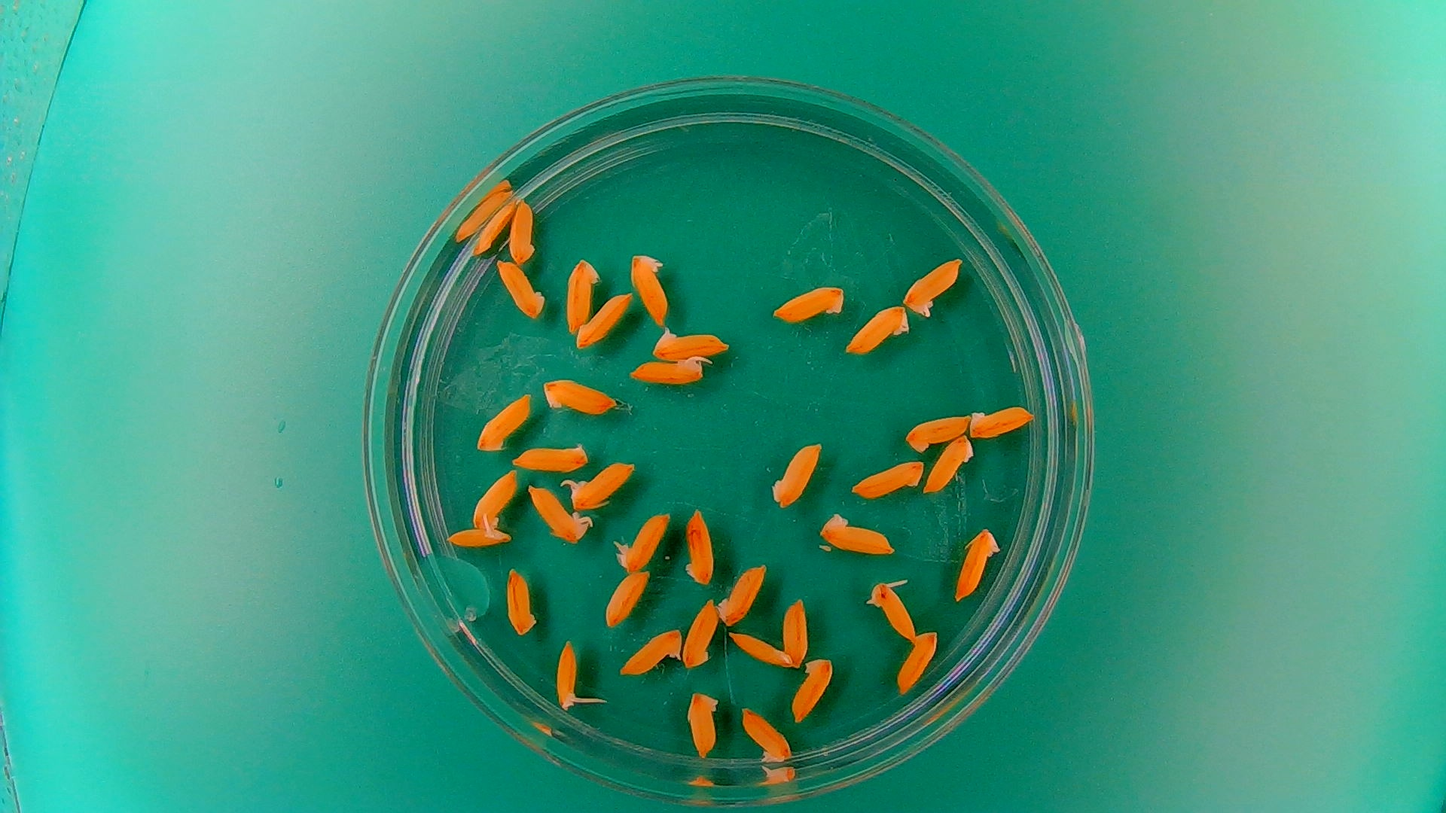no: (767, 437, 824, 510), (951, 525, 1002, 602), (842, 302, 911, 358), (814, 509, 896, 556), (715, 559, 769, 629), (851, 453, 926, 502), (574, 288, 634, 349), (475, 390, 533, 452), (769, 281, 848, 324), (618, 626, 683, 678), (739, 704, 794, 765), (471, 461, 521, 528), (539, 375, 620, 416), (495, 258, 548, 320), (469, 194, 519, 258), (924, 434, 975, 495), (791, 653, 835, 723), (895, 628, 940, 696), (601, 568, 651, 629), (562, 255, 599, 336), (903, 410, 972, 452), (512, 437, 592, 472), (681, 597, 719, 670), (725, 629, 795, 668), (651, 324, 731, 358), (682, 504, 715, 586), (685, 687, 721, 761), (968, 402, 1036, 440), (505, 565, 538, 638), (779, 594, 810, 668), (507, 195, 538, 265)
yes: (524, 481, 593, 545), (563, 456, 639, 510), (612, 508, 673, 574), (901, 255, 963, 318), (865, 576, 918, 641), (628, 251, 670, 328), (441, 510, 512, 553), (624, 353, 709, 387), (553, 636, 589, 714)
